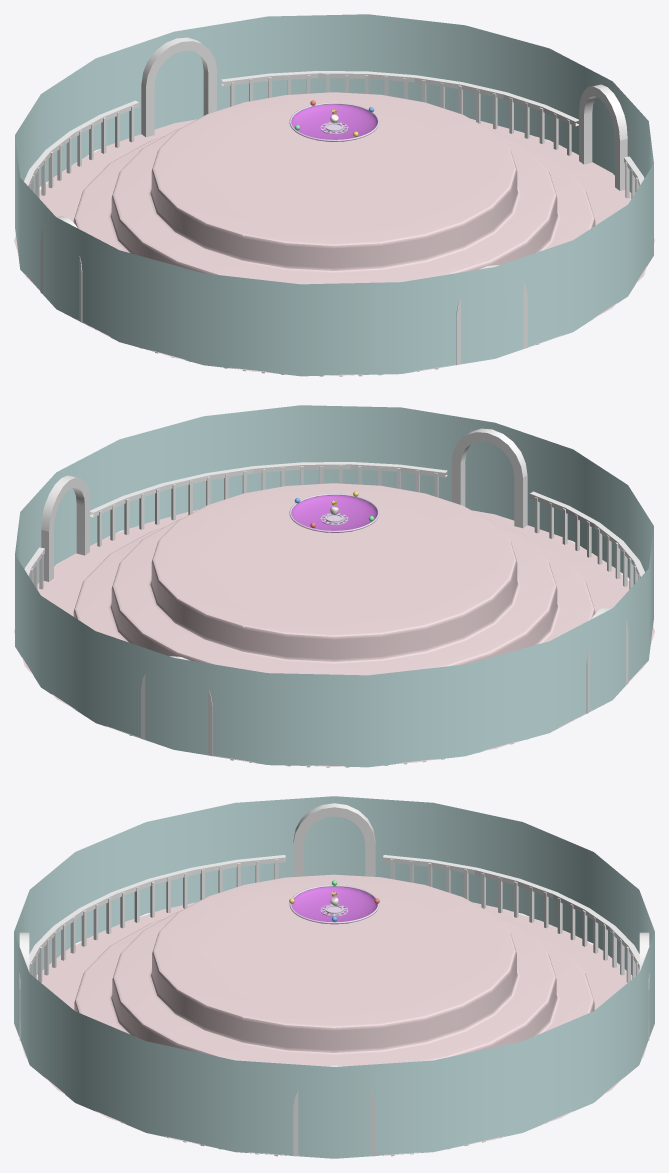
Rendered from stage.fbx.
3 views of the same model, one above another, from view 1: azimuth 30°, elevation 25°; view 2: azimuth 150°, elevation 25°; view 3: azimuth 270°, elevation 25° (orthographic).
Visible parts, largest first — view 1: pCylinder20, floor1, pCylinder42, pCylinder40, pCylinder39, stage, pCylinder38; view 2: pCylinder20, floor1, pCylinder42, pCylinder38, pCylinder39, stage, pCylinder40; view 3: pCylinder20, floor1, pCylinder42, stage, pCylinder41, pCylinder39.
Part boxes in pixels (left/top/right/bottom): pCylinder20: left=15, top=14, right=653, bottom=376; floor1: left=14, top=92, right=654, bottom=375; pCylinder42: left=24, top=71, right=644, bottom=186; pCylinder40: left=141, top=37, right=216, bottom=137; pCylinder39: left=579, top=84, right=627, bottom=190; stage: left=291, top=104, right=377, bottom=141; pCylinder38: left=456, top=265, right=527, bottom=365; pCylinder20: left=15, top=405, right=653, bottom=767; floor1: left=14, top=483, right=654, bottom=766; pCylinder42: left=24, top=462, right=644, bottom=577; pCylinder38: left=452, top=428, right=527, bottom=528; pCylinder39: left=41, top=475, right=89, bottom=581; stage: left=291, top=495, right=377, bottom=532; pCylinder40: left=141, top=656, right=212, bottom=756; pCylinder20: left=14, top=796, right=654, bottom=1158; floor1: left=20, top=874, right=648, bottom=1155; pCylinder42: left=29, top=855, right=639, bottom=969; stage: left=291, top=886, right=377, bottom=924; pCylinder41: left=293, top=803, right=375, bottom=876; pCylinder39: left=293, top=1065, right=375, bottom=1156.
Bounding box in the file's own units: 84.31 × 19.52 × 84.31.
